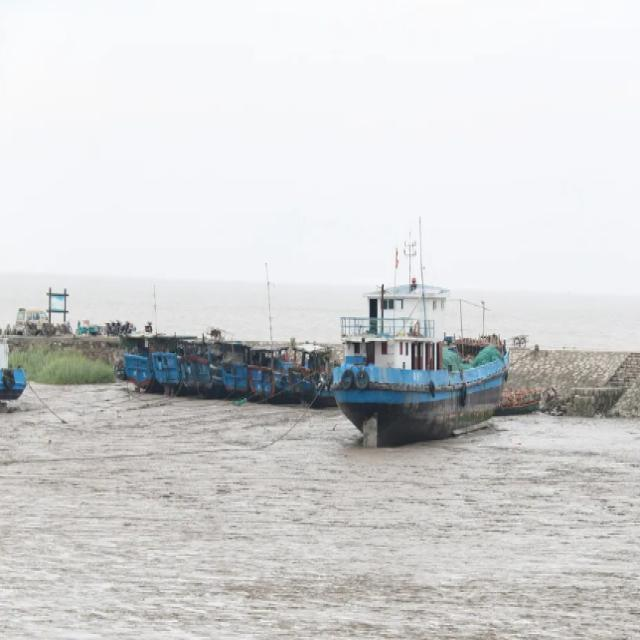fishing boat: (333, 247, 515, 446)
